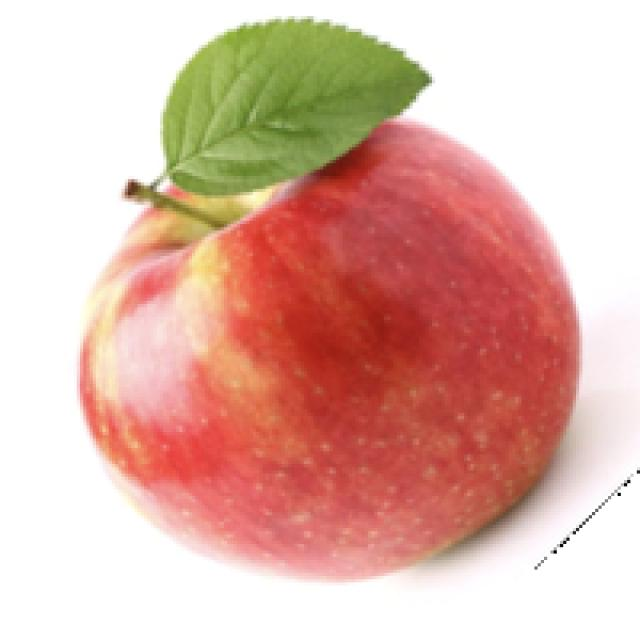apple: (70, 13, 634, 589)
